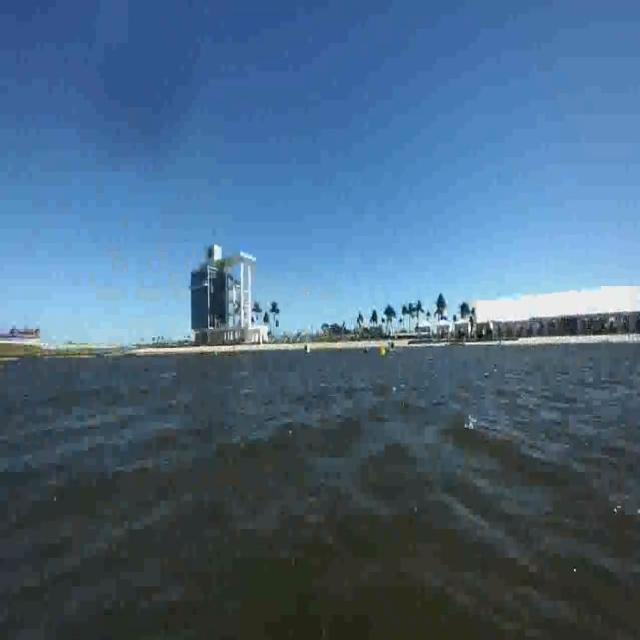yellow-buoy: (380, 342, 386, 357)
